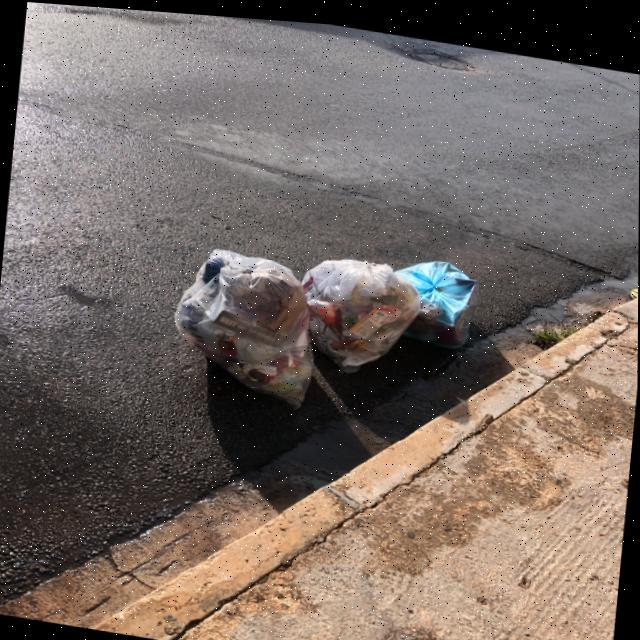Other: (387, 245, 480, 354)
Recycled Waste -Grey or Green Bag-: (164, 236, 326, 412), (298, 244, 425, 380)
